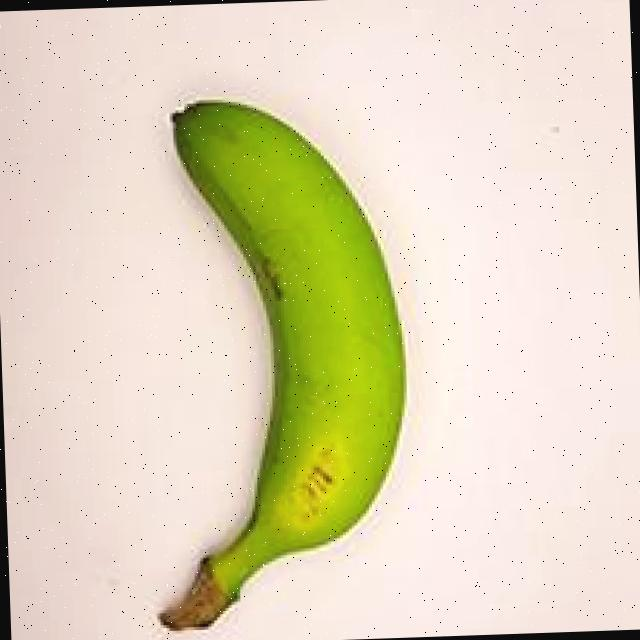Unripe: (83, 77, 442, 640)
